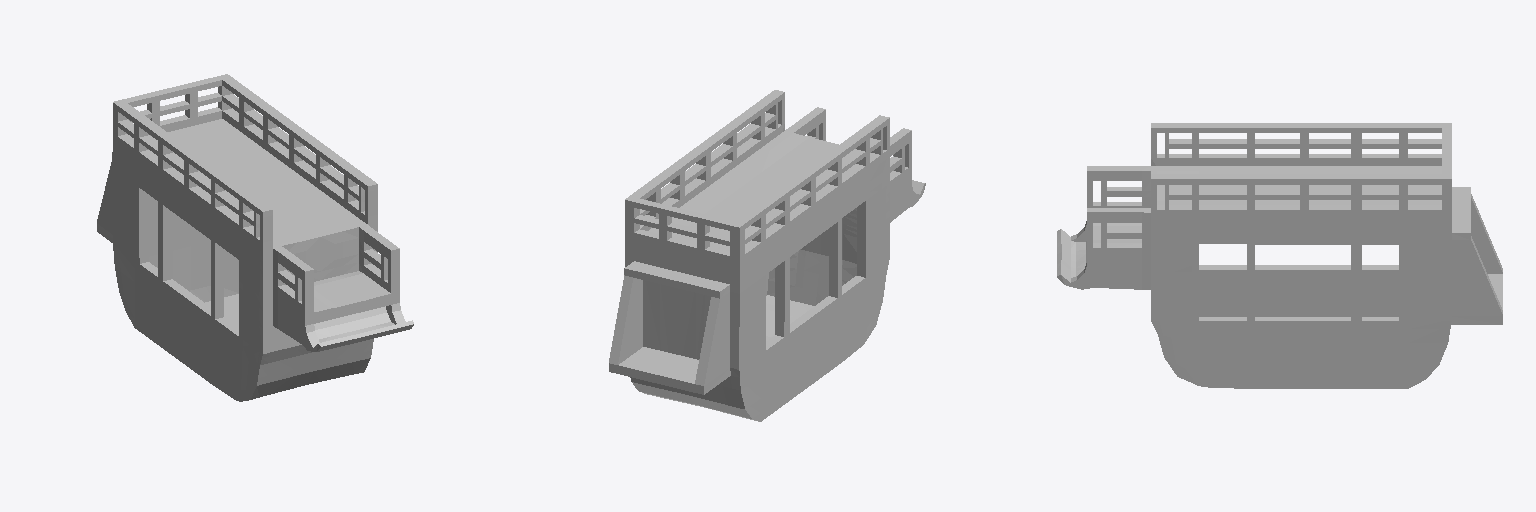
File: main part.obj
The picture shows the model from 3 angles: view 1: azimuth 30°, elevation 25°; view 2: azimuth 150°, elevation 25°; view 3: azimuth 270°, elevation 25°; orthographic projection.
Visible parts, largest first — view 1: polySurface4; view 2: polySurface4; view 3: polySurface4.
Boxes of the visible parts, box(x1,y1,x2,y2) form: polySurface4: box(97, 74, 413, 401); polySurface4: box(609, 90, 925, 421); polySurface4: box(1057, 123, 1502, 388).
Size of the model in its own units: 4.41 by 7.72 by 14.85.